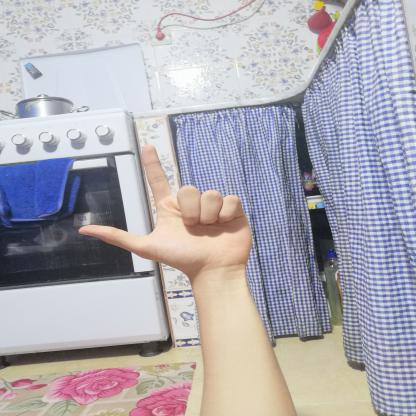LAAM: (61, 134, 266, 284)
